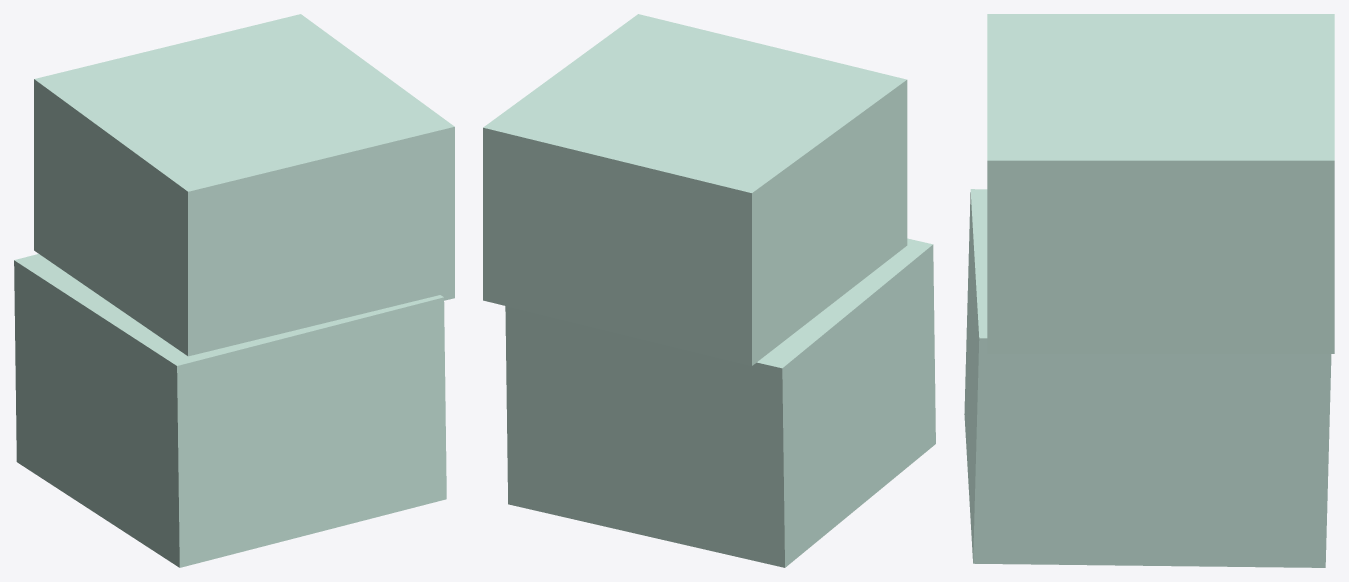
The picture shows the model from 3 angles, left to right: view 1: azimuth 30°, elevation 25°; view 2: azimuth 150°, elevation 25°; view 3: azimuth 270°, elevation 25°; orthographic projection. The views are drawn at different scales.
Visible parts, largest first — view 1: Renderer Node; view 2: Renderer Node; view 3: Renderer Node.
Boxes of the visible parts, x1,y1,x2,y2 form: Renderer Node: (14,14,454,567); Renderer Node: (483,14,935,567); Renderer Node: (964,14,1334,567).
Bounding box in the file's own units: 1.09 × 1.32 × 1.06.
